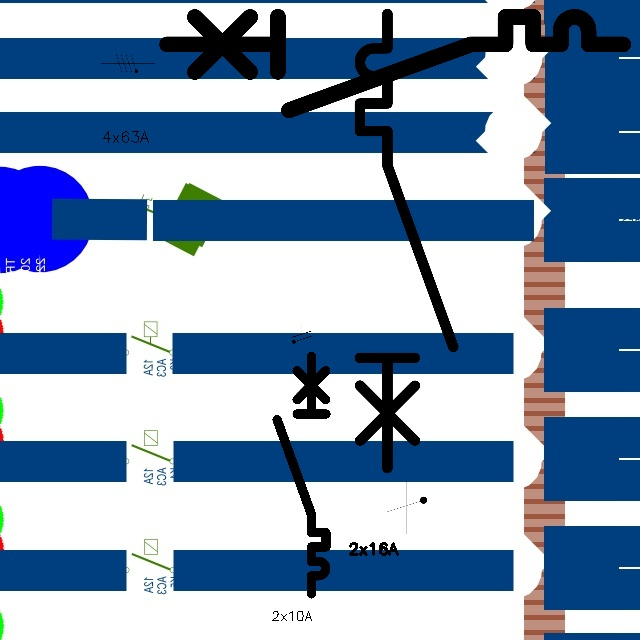interruptor_termomagnetico: (155, 5, 635, 122), (348, 2, 465, 480), (271, 350, 332, 600)
